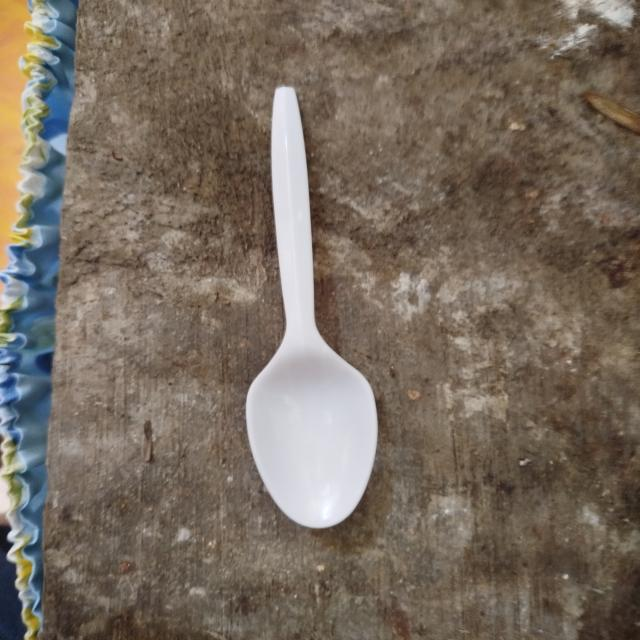plastic: (226, 79, 409, 540)
